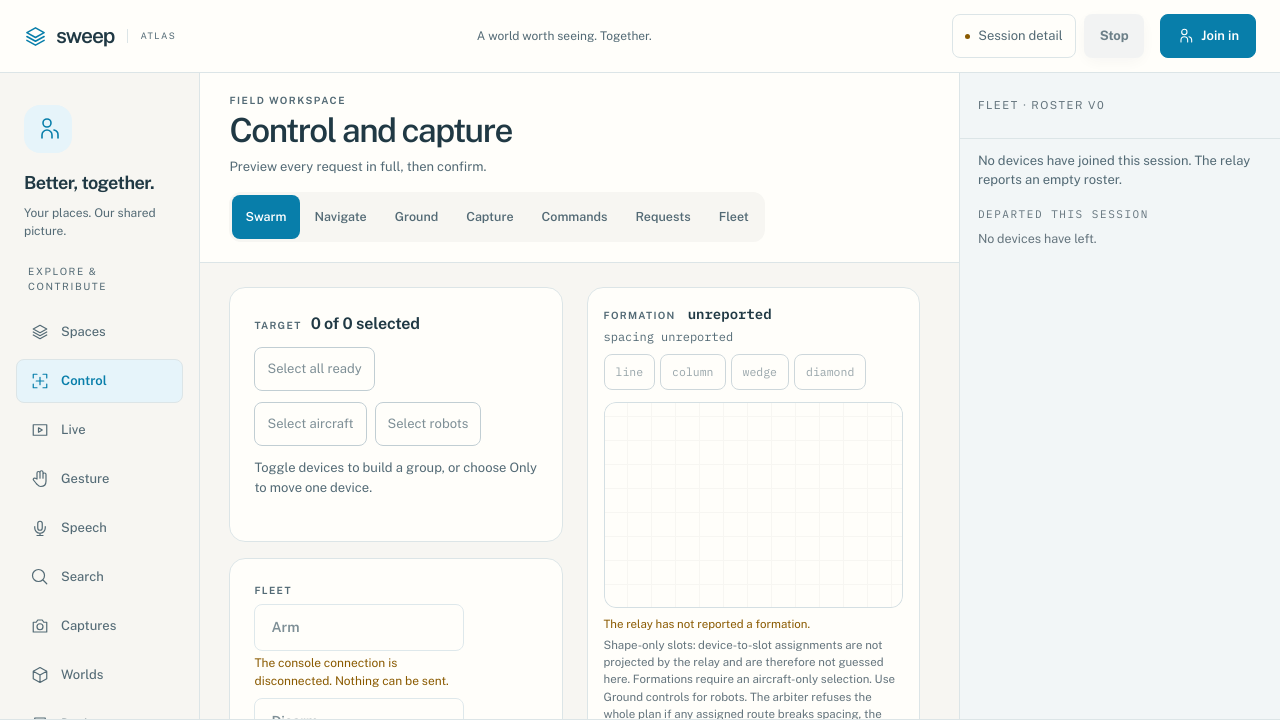
Test: persistent shell › disconnected: stop disabled with the relay reason, pills and sheet say so
The image size is (1280, 720).
Expected: the button named "Network stop" is disabled, [1084, 14, 1144, 58]
What coordinates should you click on to do the following:
click the button "Session detail"
I would click on:
 (1014, 36)
Its box is [952, 14, 1076, 58].
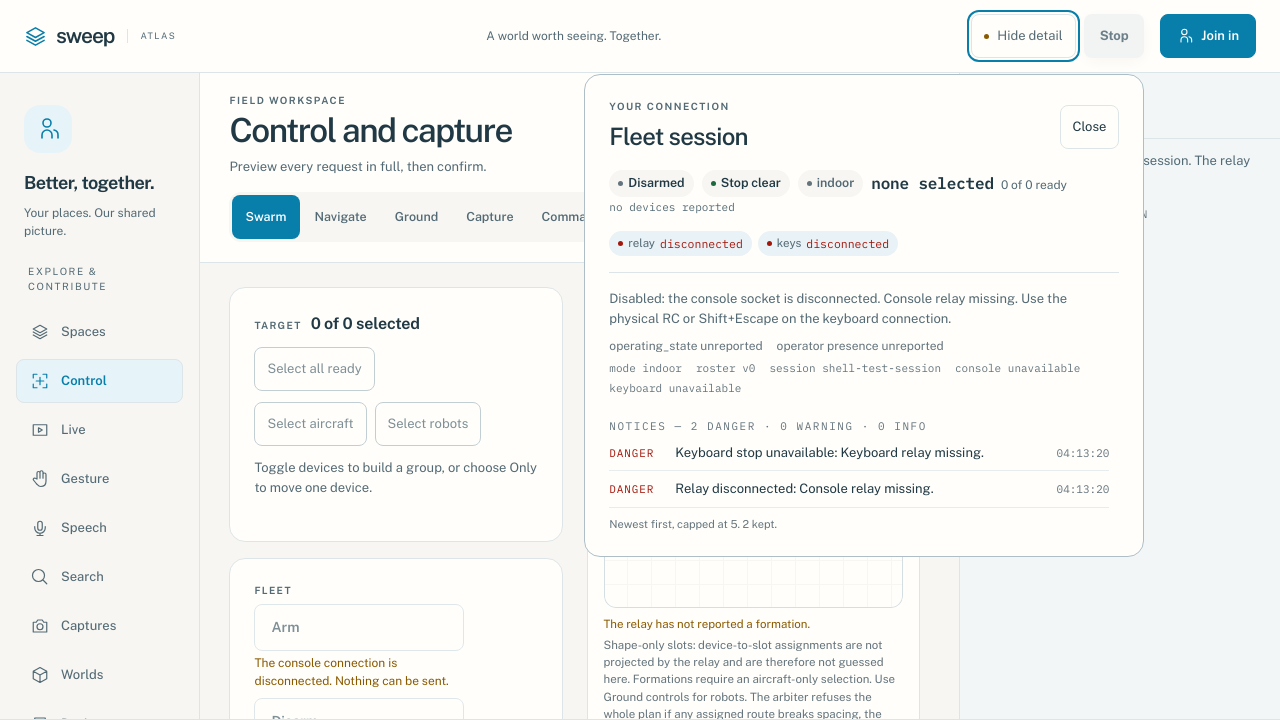
Expected: the list item titled "Relay (console)" reads "relay disconnected", [609, 231, 752, 256]
Expected: the list item titled "Keyboard stop" reads "keys disconnected", [758, 231, 898, 256]
Expected: the text "no devices reported" is shown, [609, 200, 735, 214]
